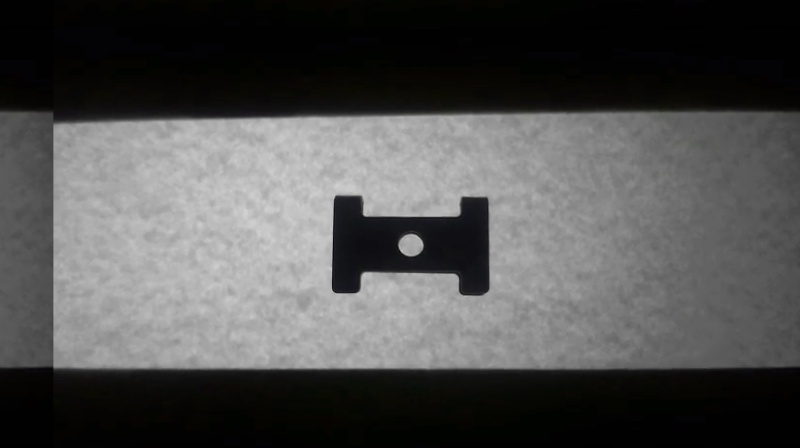O002: (325, 192, 493, 297)
